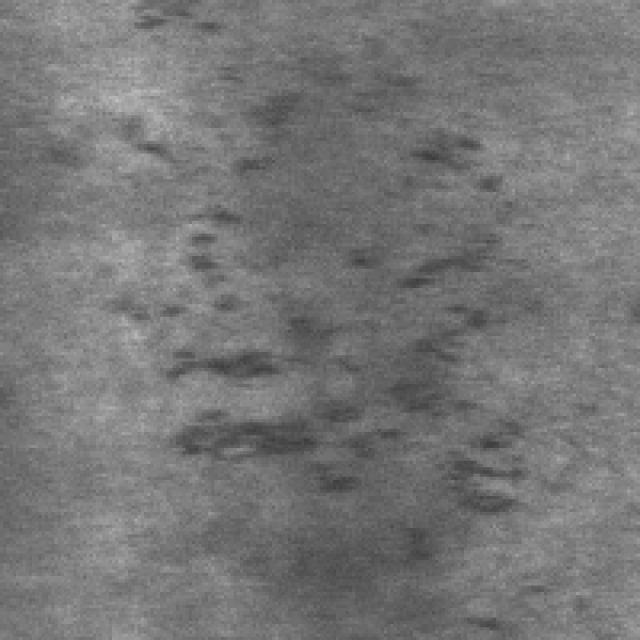rolled-in_scale: (128, 83, 362, 483), (339, 125, 528, 528)
